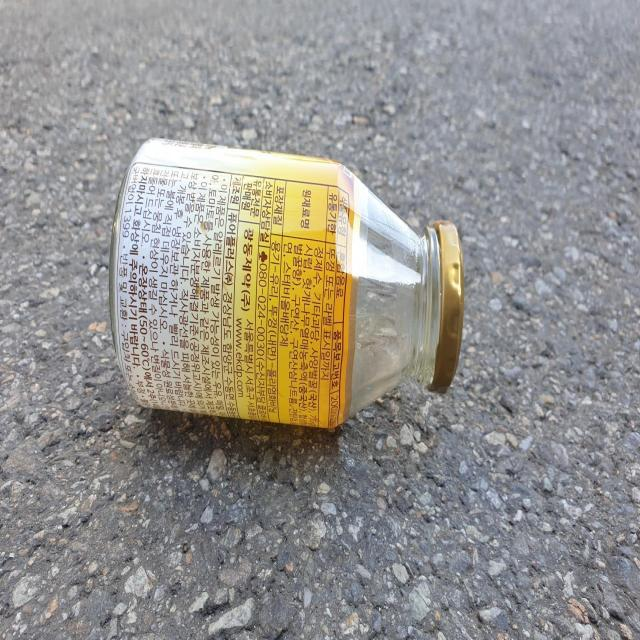glass: (109, 138, 463, 428)
